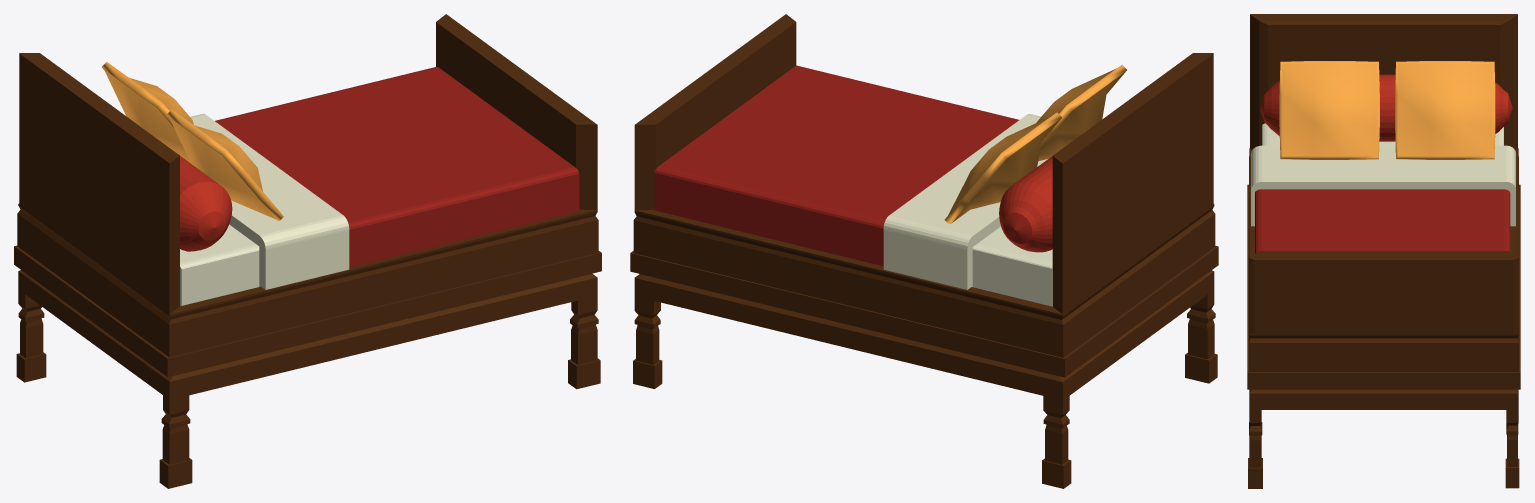
File: M_LitRouge.fbx
3 views of the same model, side by side, from view 1: azimuth 30°, elevation 25°; view 2: azimuth 150°, elevation 25°; view 3: azimuth 270°, elevation 25° (orthographic). The views are drawn at different scales.
Parts seen in each view (by area): view 1: Cube.002; view 2: Cube.002; view 3: Cube.002.
Boxes of the visible parts, x1=… form: Cube.002: x1=14, y1=14, x2=601, y2=488; Cube.002: x1=630, y1=14, x2=1218, y2=488; Cube.002: x1=1247, y1=14, x2=1520, y2=488.
Size of the model in its own units: 664 by 474 by 407.
